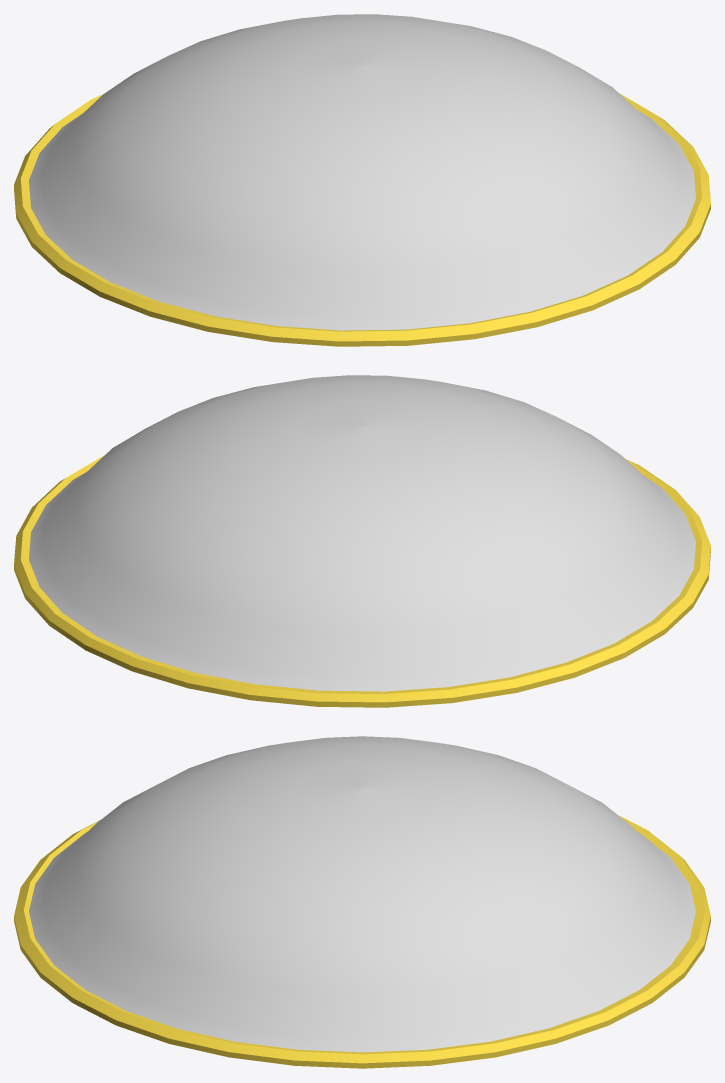
File: roof_medium_01.fbx
3 views of the same model, one above another, from view 1: azimuth 30°, elevation 25°; view 2: azimuth 150°, elevation 25°; view 3: azimuth 270°, elevation 25° (orthographic).
Visible parts, largest first — view 1: roof_medium; view 2: roof_medium; view 3: roof_medium.
Boxes of the visible parts, x1=… form: roof_medium: x1=14, y1=14, x2=710, y2=346; roof_medium: x1=14, y1=375, x2=710, y2=707; roof_medium: x1=14, y1=736, x2=710, y2=1068.
Size of the model in its own units: 250 by 53.02 by 250.
